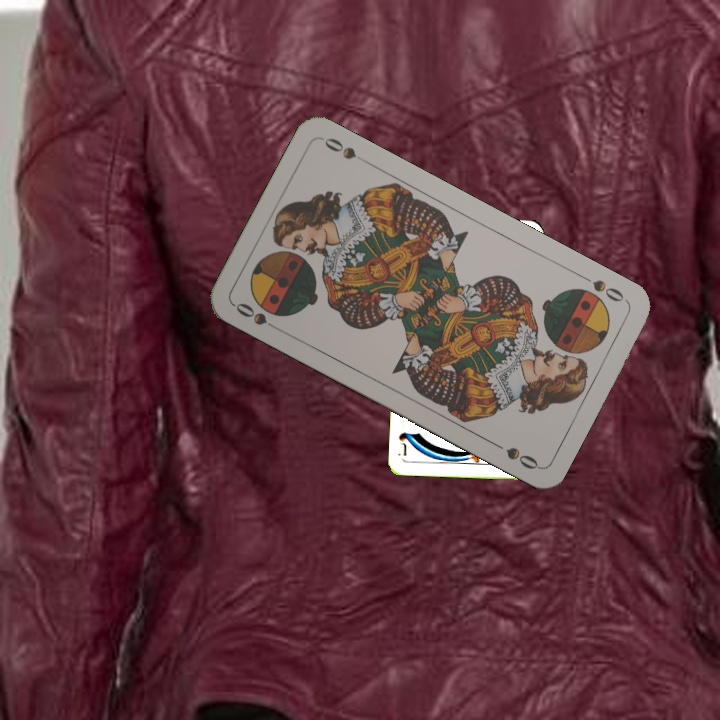SO: (230, 298, 284, 335), (575, 270, 629, 305)
